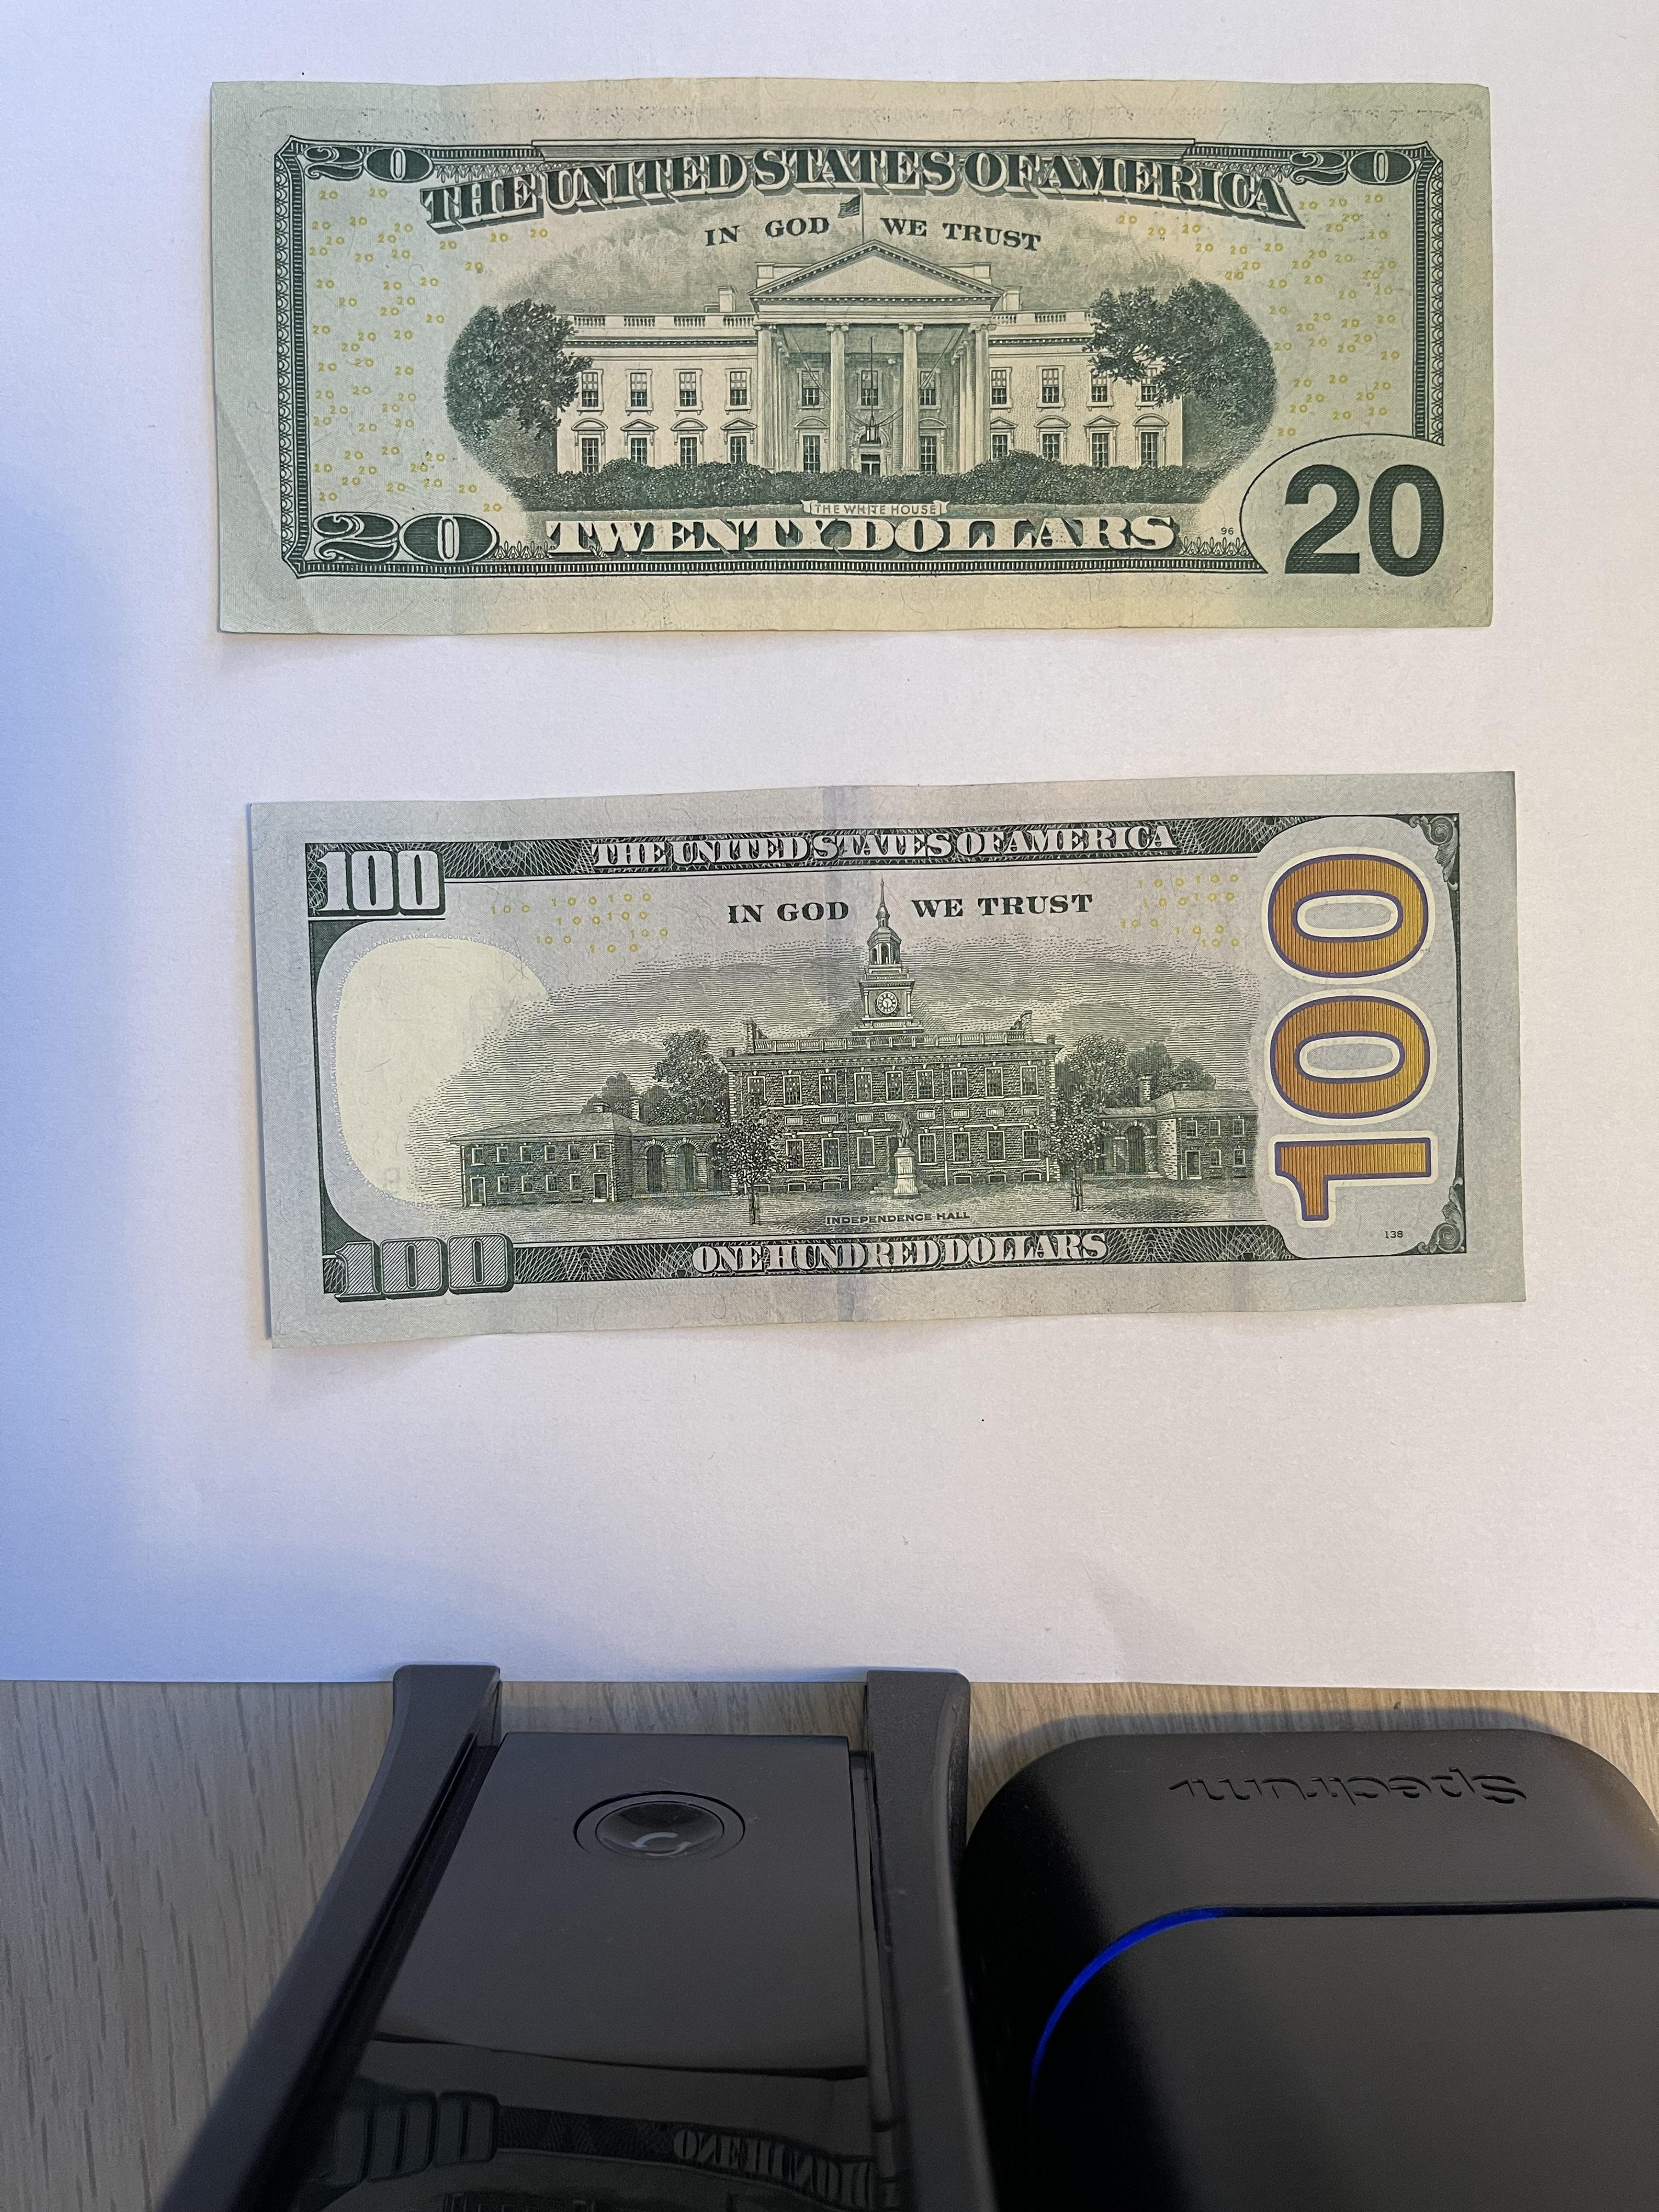HundredBill: (244, 765, 1528, 1353)
TwentyBill: (206, 73, 1495, 636)
